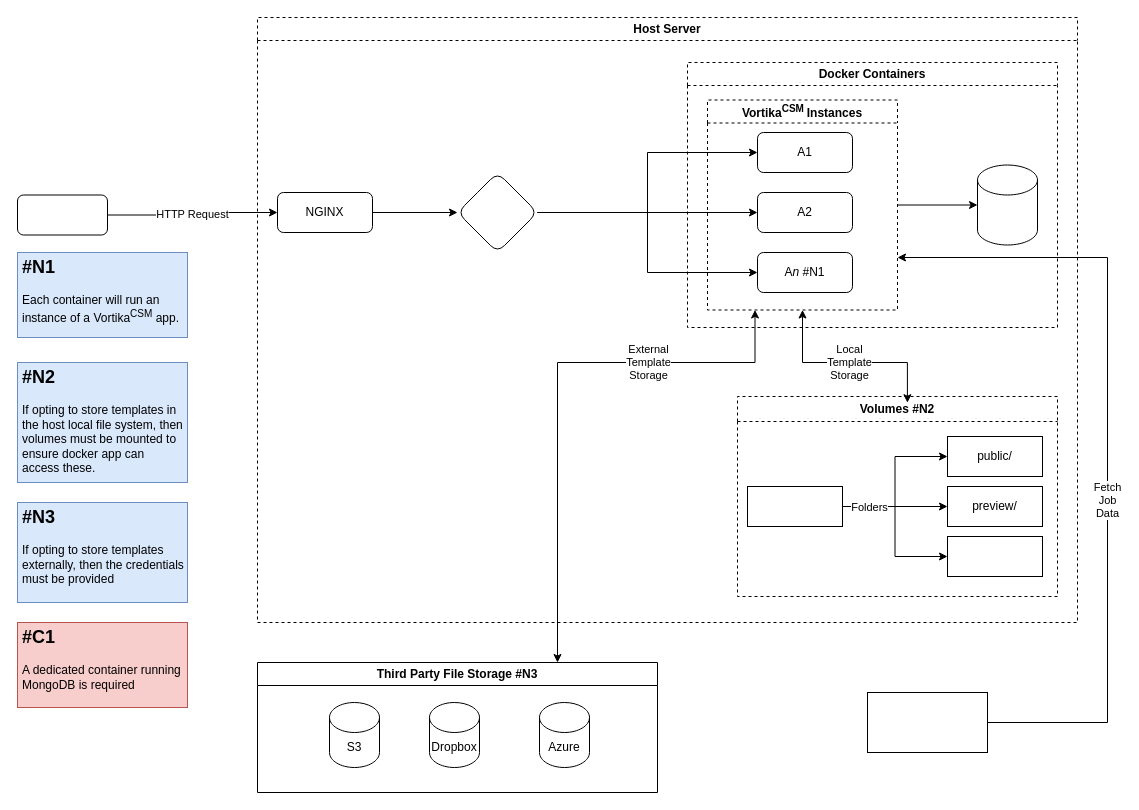
The diagram is 1139 pixels wide and 810 high, and some of its shapes have lost their labels. Each missing label, with the centre of its shape:
ATS System: the point at 927,722
Client: the point at 62,214
DB #C1: the point at 1007,204
draft/: the point at 994,556
Load Balancer: the point at 497,212
Vol 1: the point at 794,506
